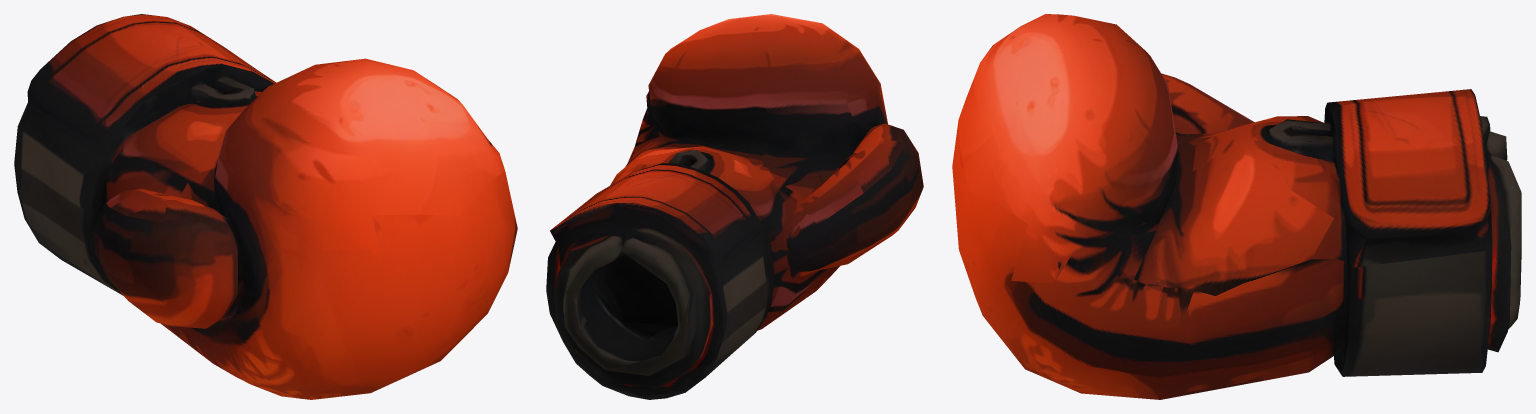
Rendered from Glove_Right.fbx.
3 renders of one model, left to right at view 1: azimuth 30°, elevation 25°; view 2: azimuth 150°, elevation 25°; view 3: azimuth 270°, elevation 25°, orthographic. The views are drawn at different scales.
Parts seen in each view (by area): view 1: Glove_Right; view 2: Glove_Right; view 3: Glove_Right.
Part boxes in pixels (x1,y1,x2,y2): Glove_Right: (14, 14, 517, 399); Glove_Right: (546, 14, 923, 399); Glove_Right: (952, 14, 1521, 399).
Size of the model in its own units: 136 by 120 by 182.
